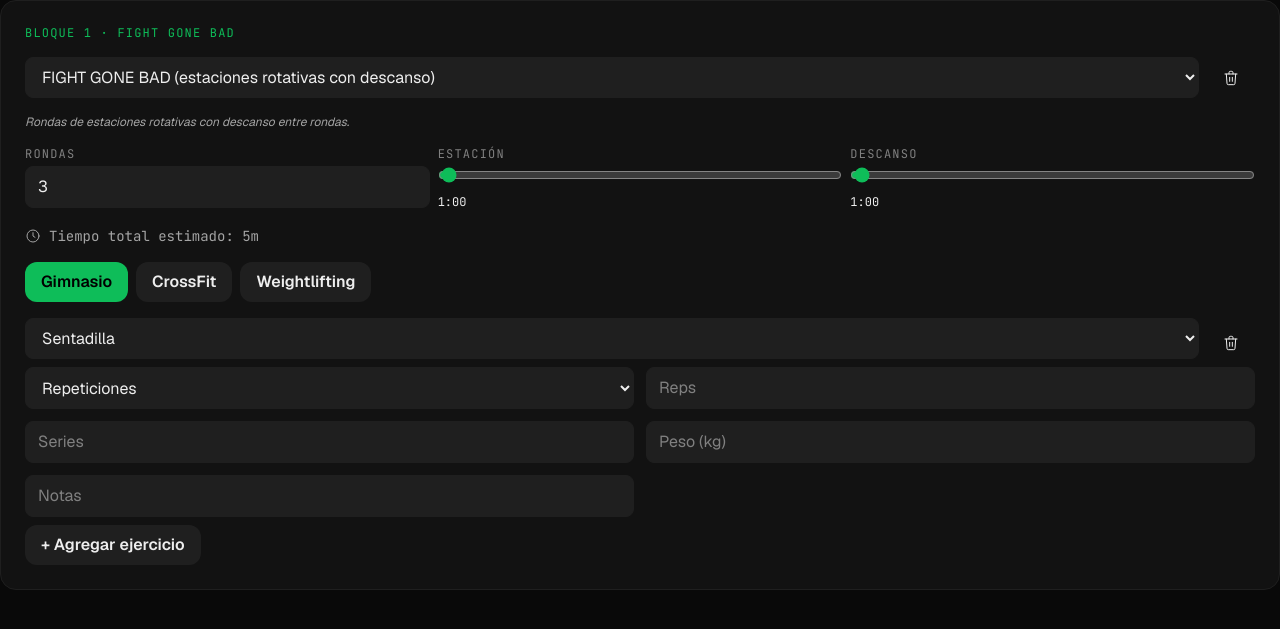
BlockEditor — time input widget per field › opens the minutes/seconds inputs when the FGB Estación readout is tapped
Expected: the slider named "Segundos por estación (barra)" holds "60", [438,167,842,183]
What coordinates should you click on to do the following:
click the button named "Segundos por estación: 1:00"
I would click on:
 (452, 202)
Its box is [438,194,466,210].
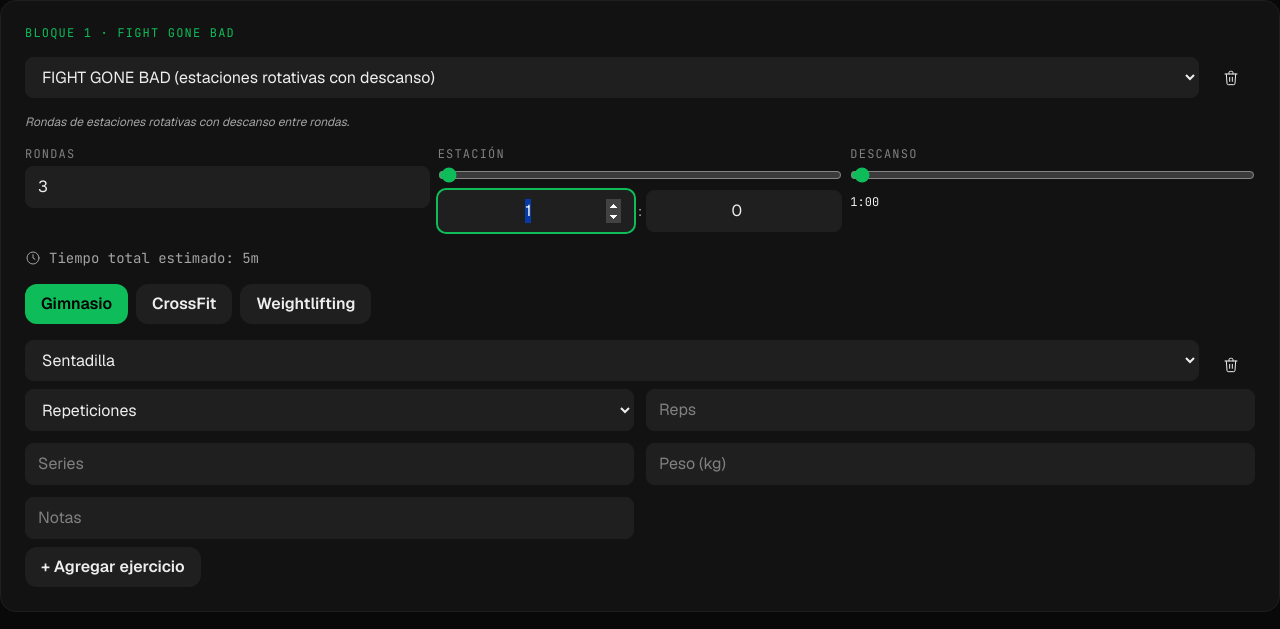
Expected: the number field named "Segundos por estación minutos" holds "1", [438,190,634,232]
Expected: the number field named "Segundos por estación segundos" holds "0", [646,190,842,232]
